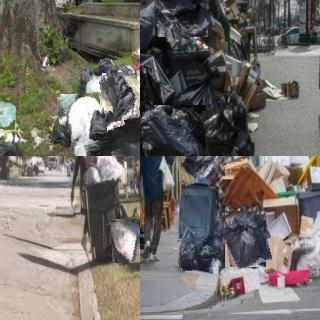Garbage: (140, 101, 212, 156), (84, 101, 140, 156), (222, 209, 269, 269), (59, 93, 106, 146), (153, 0, 211, 39), (204, 107, 248, 156), (100, 72, 139, 122), (177, 236, 222, 271), (109, 217, 140, 264), (177, 156, 224, 183), (49, 109, 81, 143), (97, 156, 125, 178), (0, 99, 15, 129)
